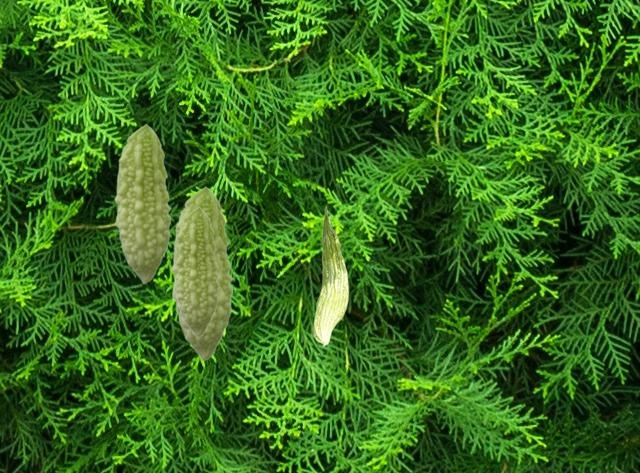ampalaya: (170, 186, 233, 361), (114, 123, 171, 284), (172, 206, 219, 338), (313, 205, 349, 347)
